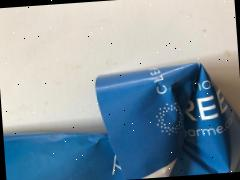paper: (0, 22, 240, 180)
